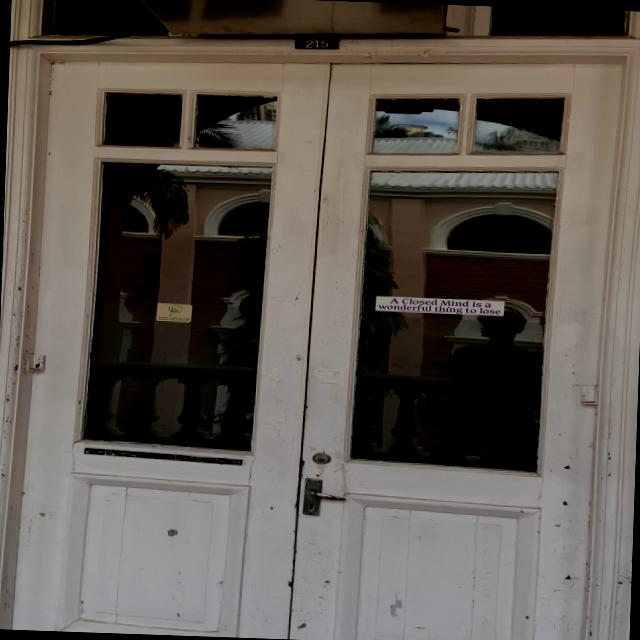room215: (289, 34, 338, 51)
